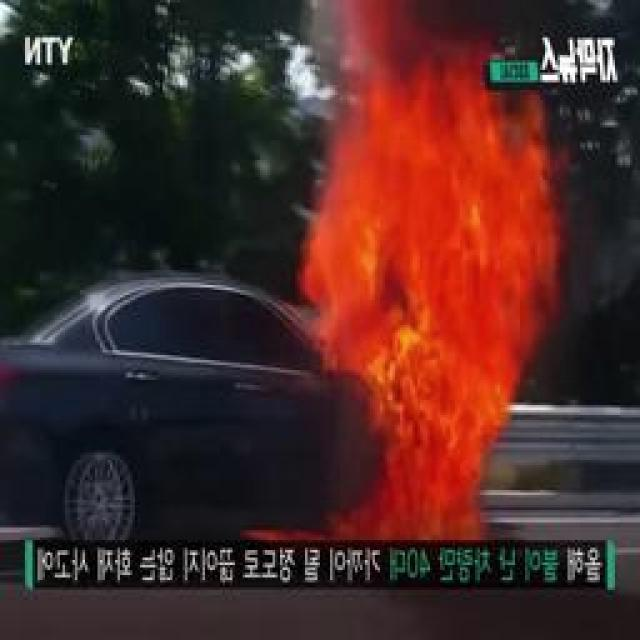Fire: (349, 91, 533, 544)
